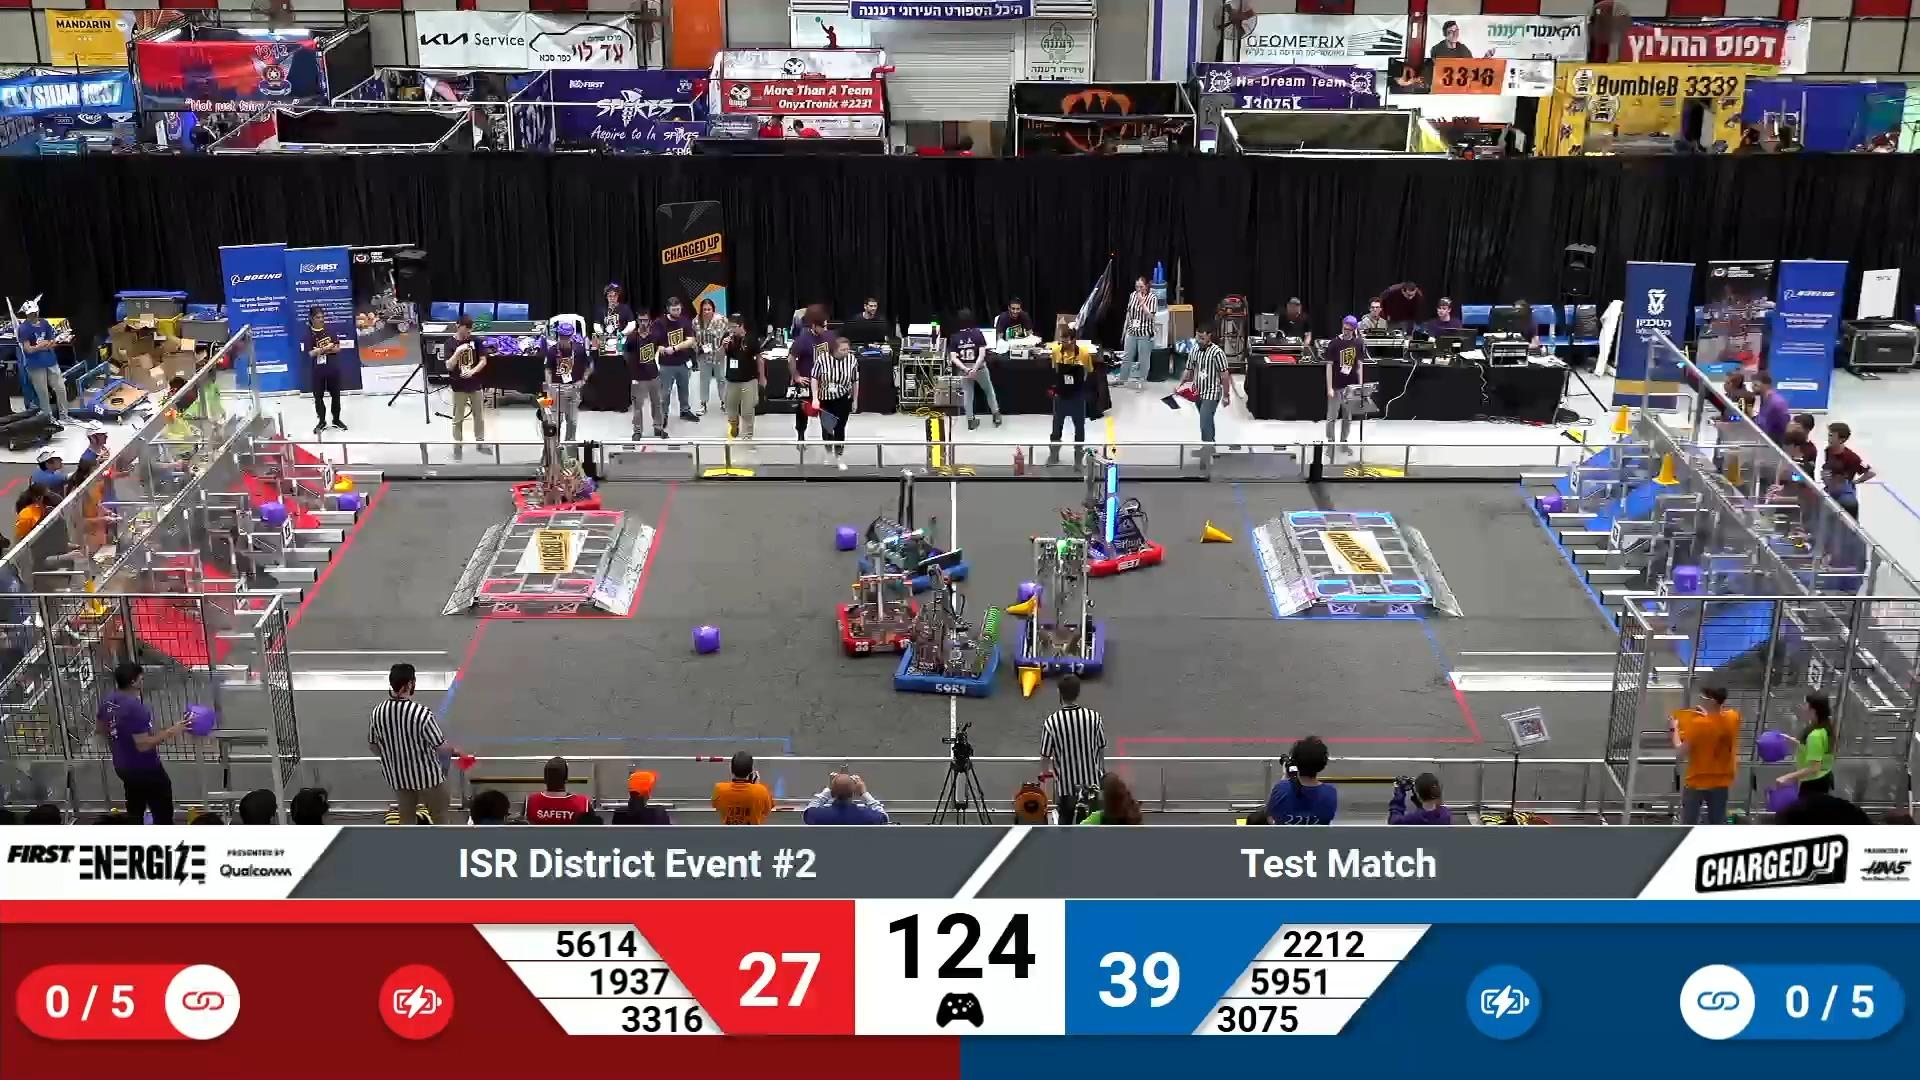robot: (890, 560, 1002, 698), (1051, 451, 1166, 579), (858, 469, 972, 595), (1015, 538, 1112, 679), (509, 393, 604, 521), (833, 543, 928, 657)
